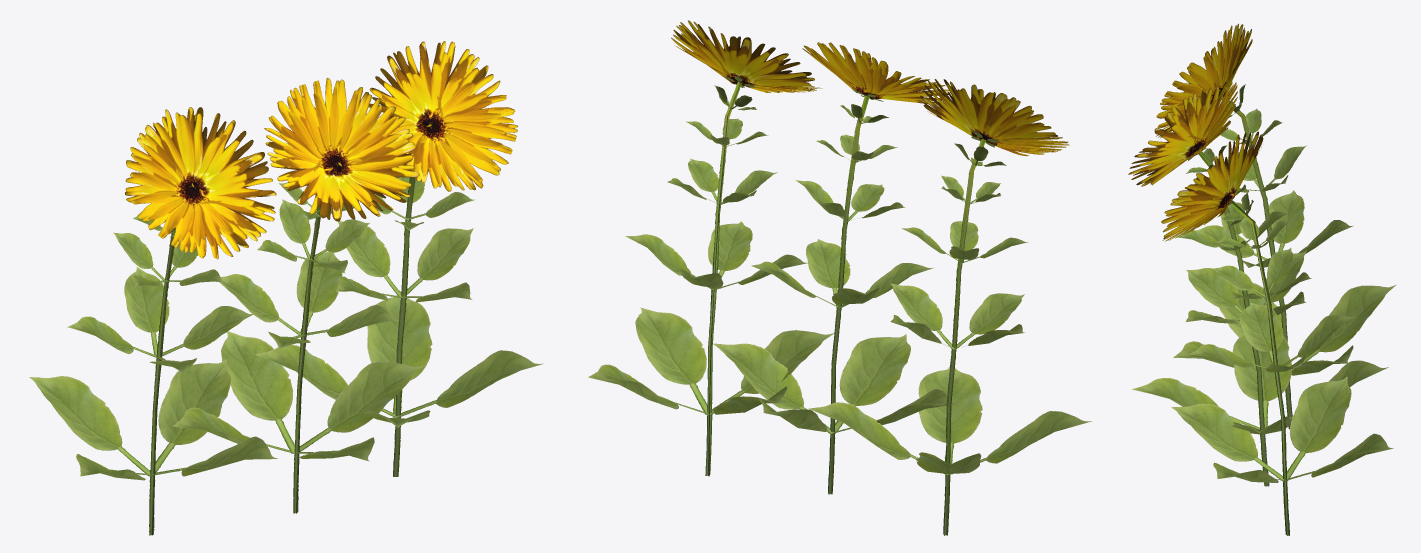
The model's file is SunflowerGroup1_2.fbx.
3 renders of one model, left to right at view 1: azimuth 30°, elevation 25°; view 2: azimuth 150°, elevation 25°; view 3: azimuth 270°, elevation 25°, orthographic. The views are drawn at different scales.
Visible parts, largest first — view 1: SunflowerGroup1_2; view 2: SunflowerGroup1_2; view 3: SunflowerGroup1_2.
Boxes of the visible parts, x1,y1,x2,y2 form: SunflowerGroup1_2: (29, 41, 543, 535); SunflowerGroup1_2: (588, 20, 1091, 535); SunflowerGroup1_2: (1128, 23, 1396, 535).
Size of the model in its own units: 0.8695 by 0.8011 by 0.4891.
